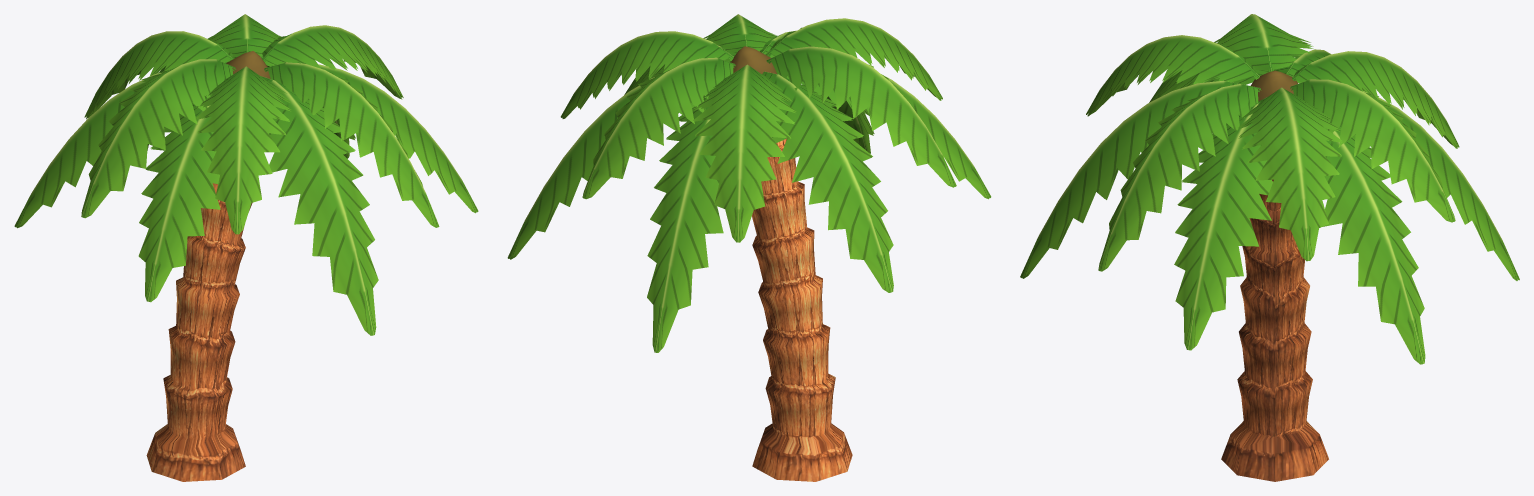
File: Kit_PalmC.fbx
3 views of the same model, side by side, from view 1: azimuth 30°, elevation 25°; view 2: azimuth 150°, elevation 25°; view 3: azimuth 270°, elevation 25° (orthographic). The views are drawn at different scales.
Visible parts, largest first — view 1: Kit_PalmC; view 2: Kit_PalmC; view 3: Kit_PalmC.
Part boxes in pixels (<box>): Kit_PalmC: <box>14,14,478,481</box>; Kit_PalmC: <box>507,14,991,481</box>; Kit_PalmC: <box>1020,14,1519,481</box>.
Size of the model in its own units: 18.34 by 18.97 by 20.08.
1 material, 1 textured.
